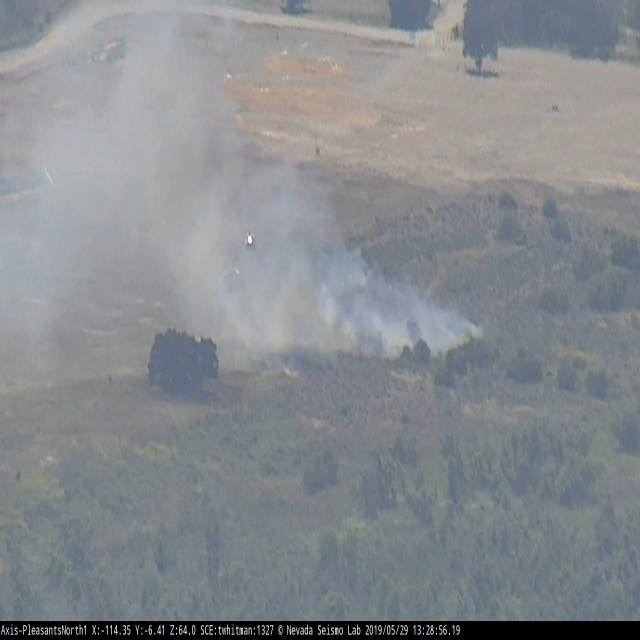smoke: (1, 65, 480, 370)
